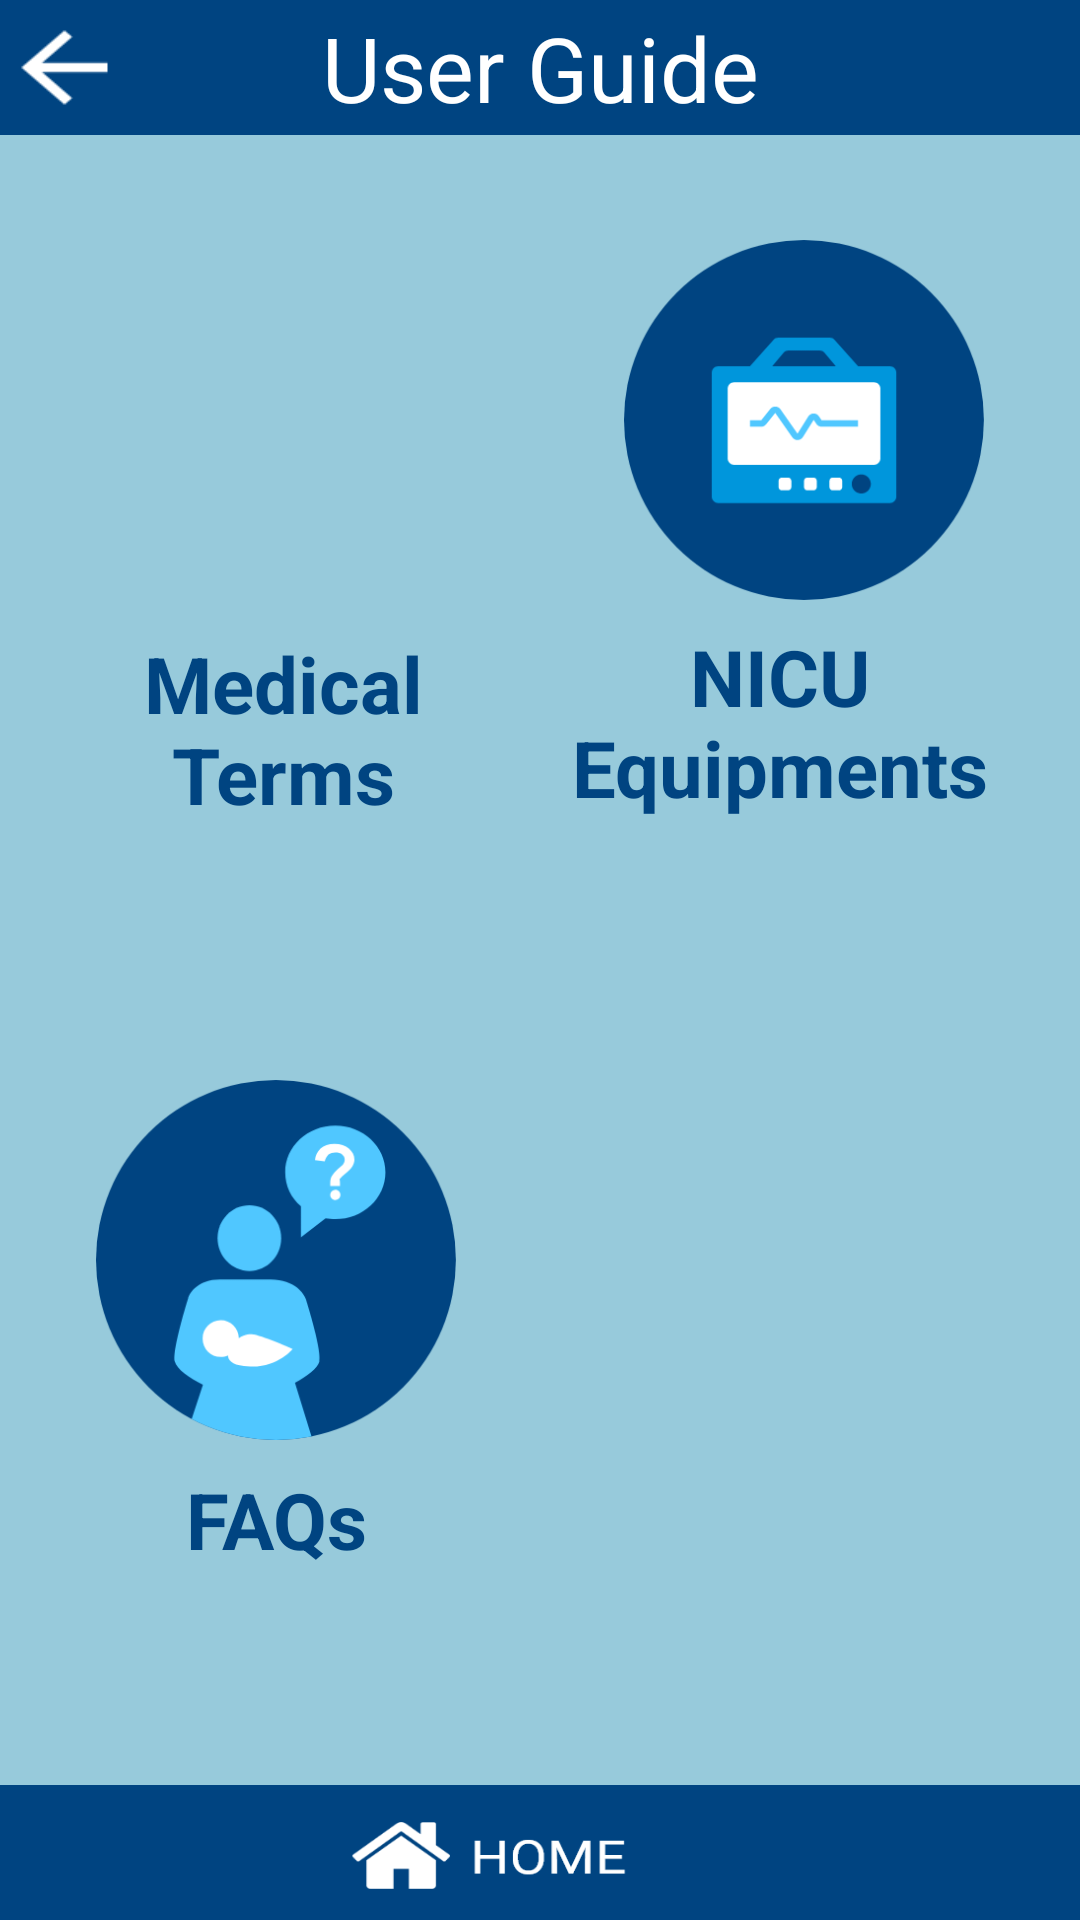

Named icons in this screenshot (1080*1920) and their centers, [x,y]:
back: [64,67]
